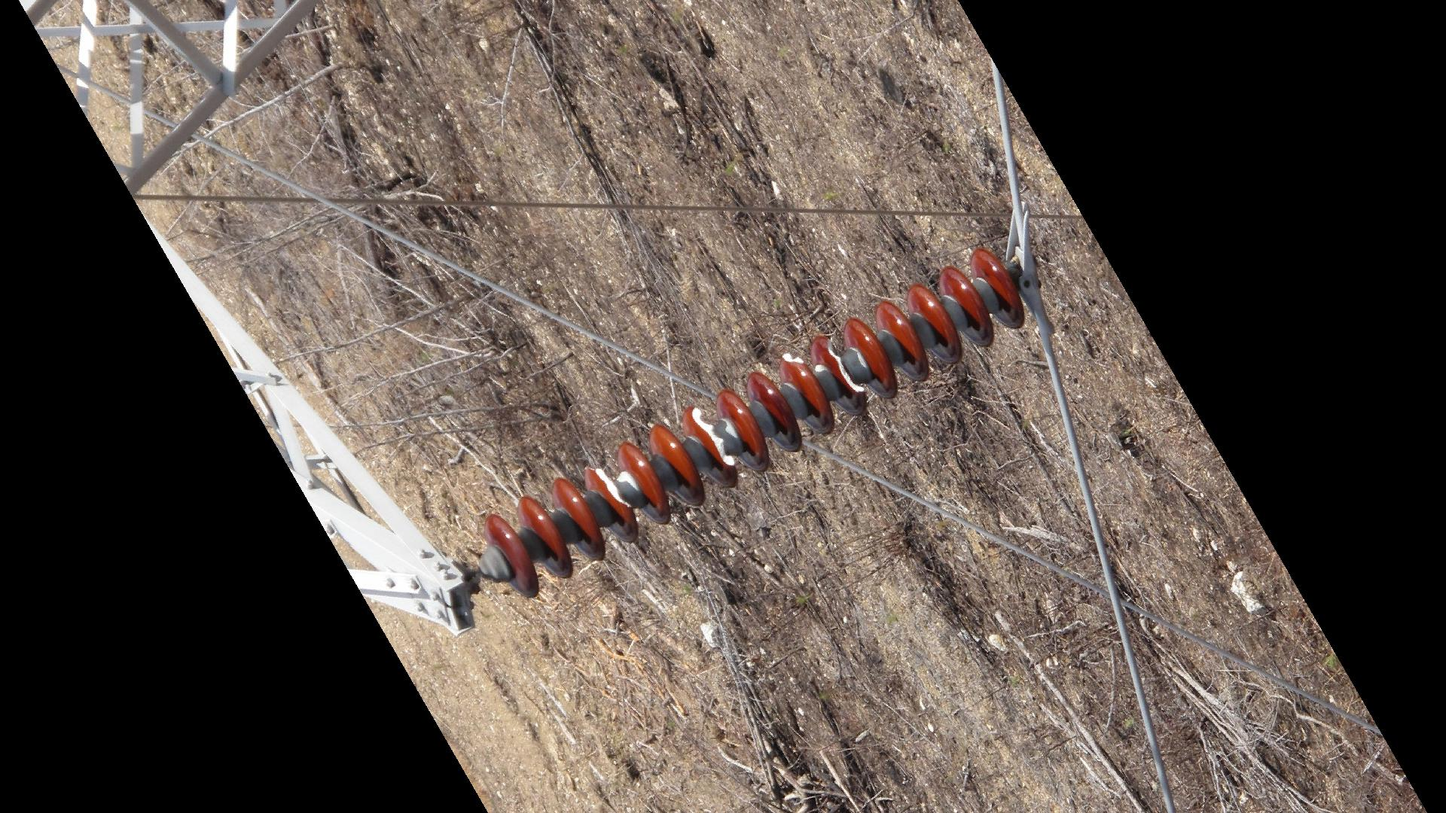insulator: (477, 243, 1033, 606)
insulator_breakage: (685, 403, 739, 471), (579, 461, 636, 515), (820, 336, 868, 400), (776, 350, 809, 371)
